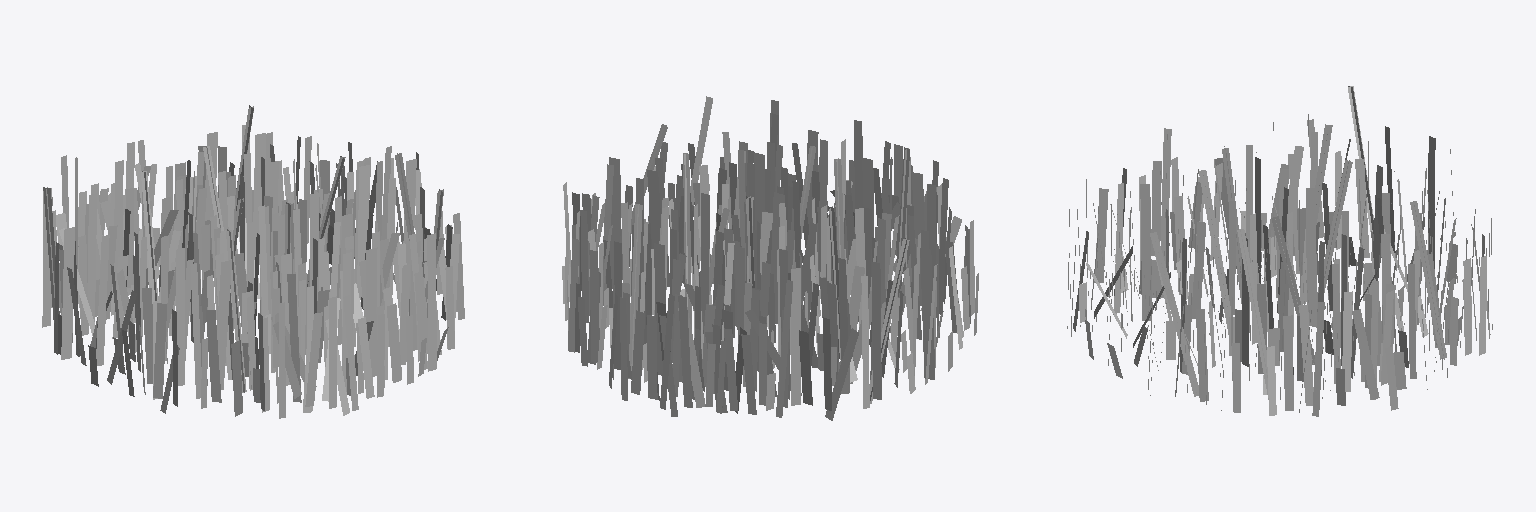
The model's file is Trava Kolosok.obj.
3 views of the same model, side by side, from view 1: azimuth 30°, elevation 25°; view 2: azimuth 150°, elevation 25°; view 3: azimuth 270°, elevation 25° (orthographic).
Parts seen in each view (by area): view 1: Trava_Kolosok; view 2: Trava_Kolosok; view 3: Trava_Kolosok.
Boxes of the visible parts, box(x1,y1,x2,y2) form: Trava_Kolosok: box(42, 105, 464, 418); Trava_Kolosok: box(562, 96, 978, 420); Trava_Kolosok: box(1067, 86, 1492, 416).
Bounding box in the file's own units: 780 × 361 × 783.